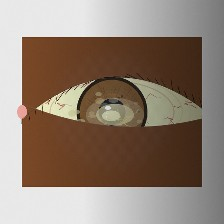corneal_ulcer: (84, 90, 146, 139)
